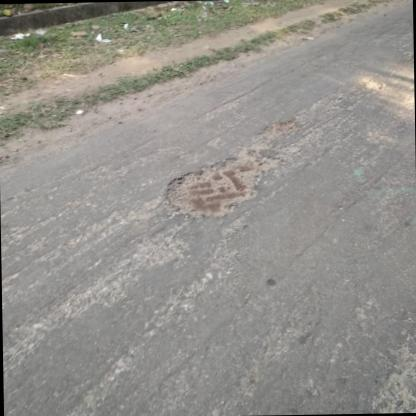pothole: (163, 148, 276, 219), (262, 118, 298, 138)
